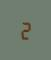two: (19, 20, 30, 39)
